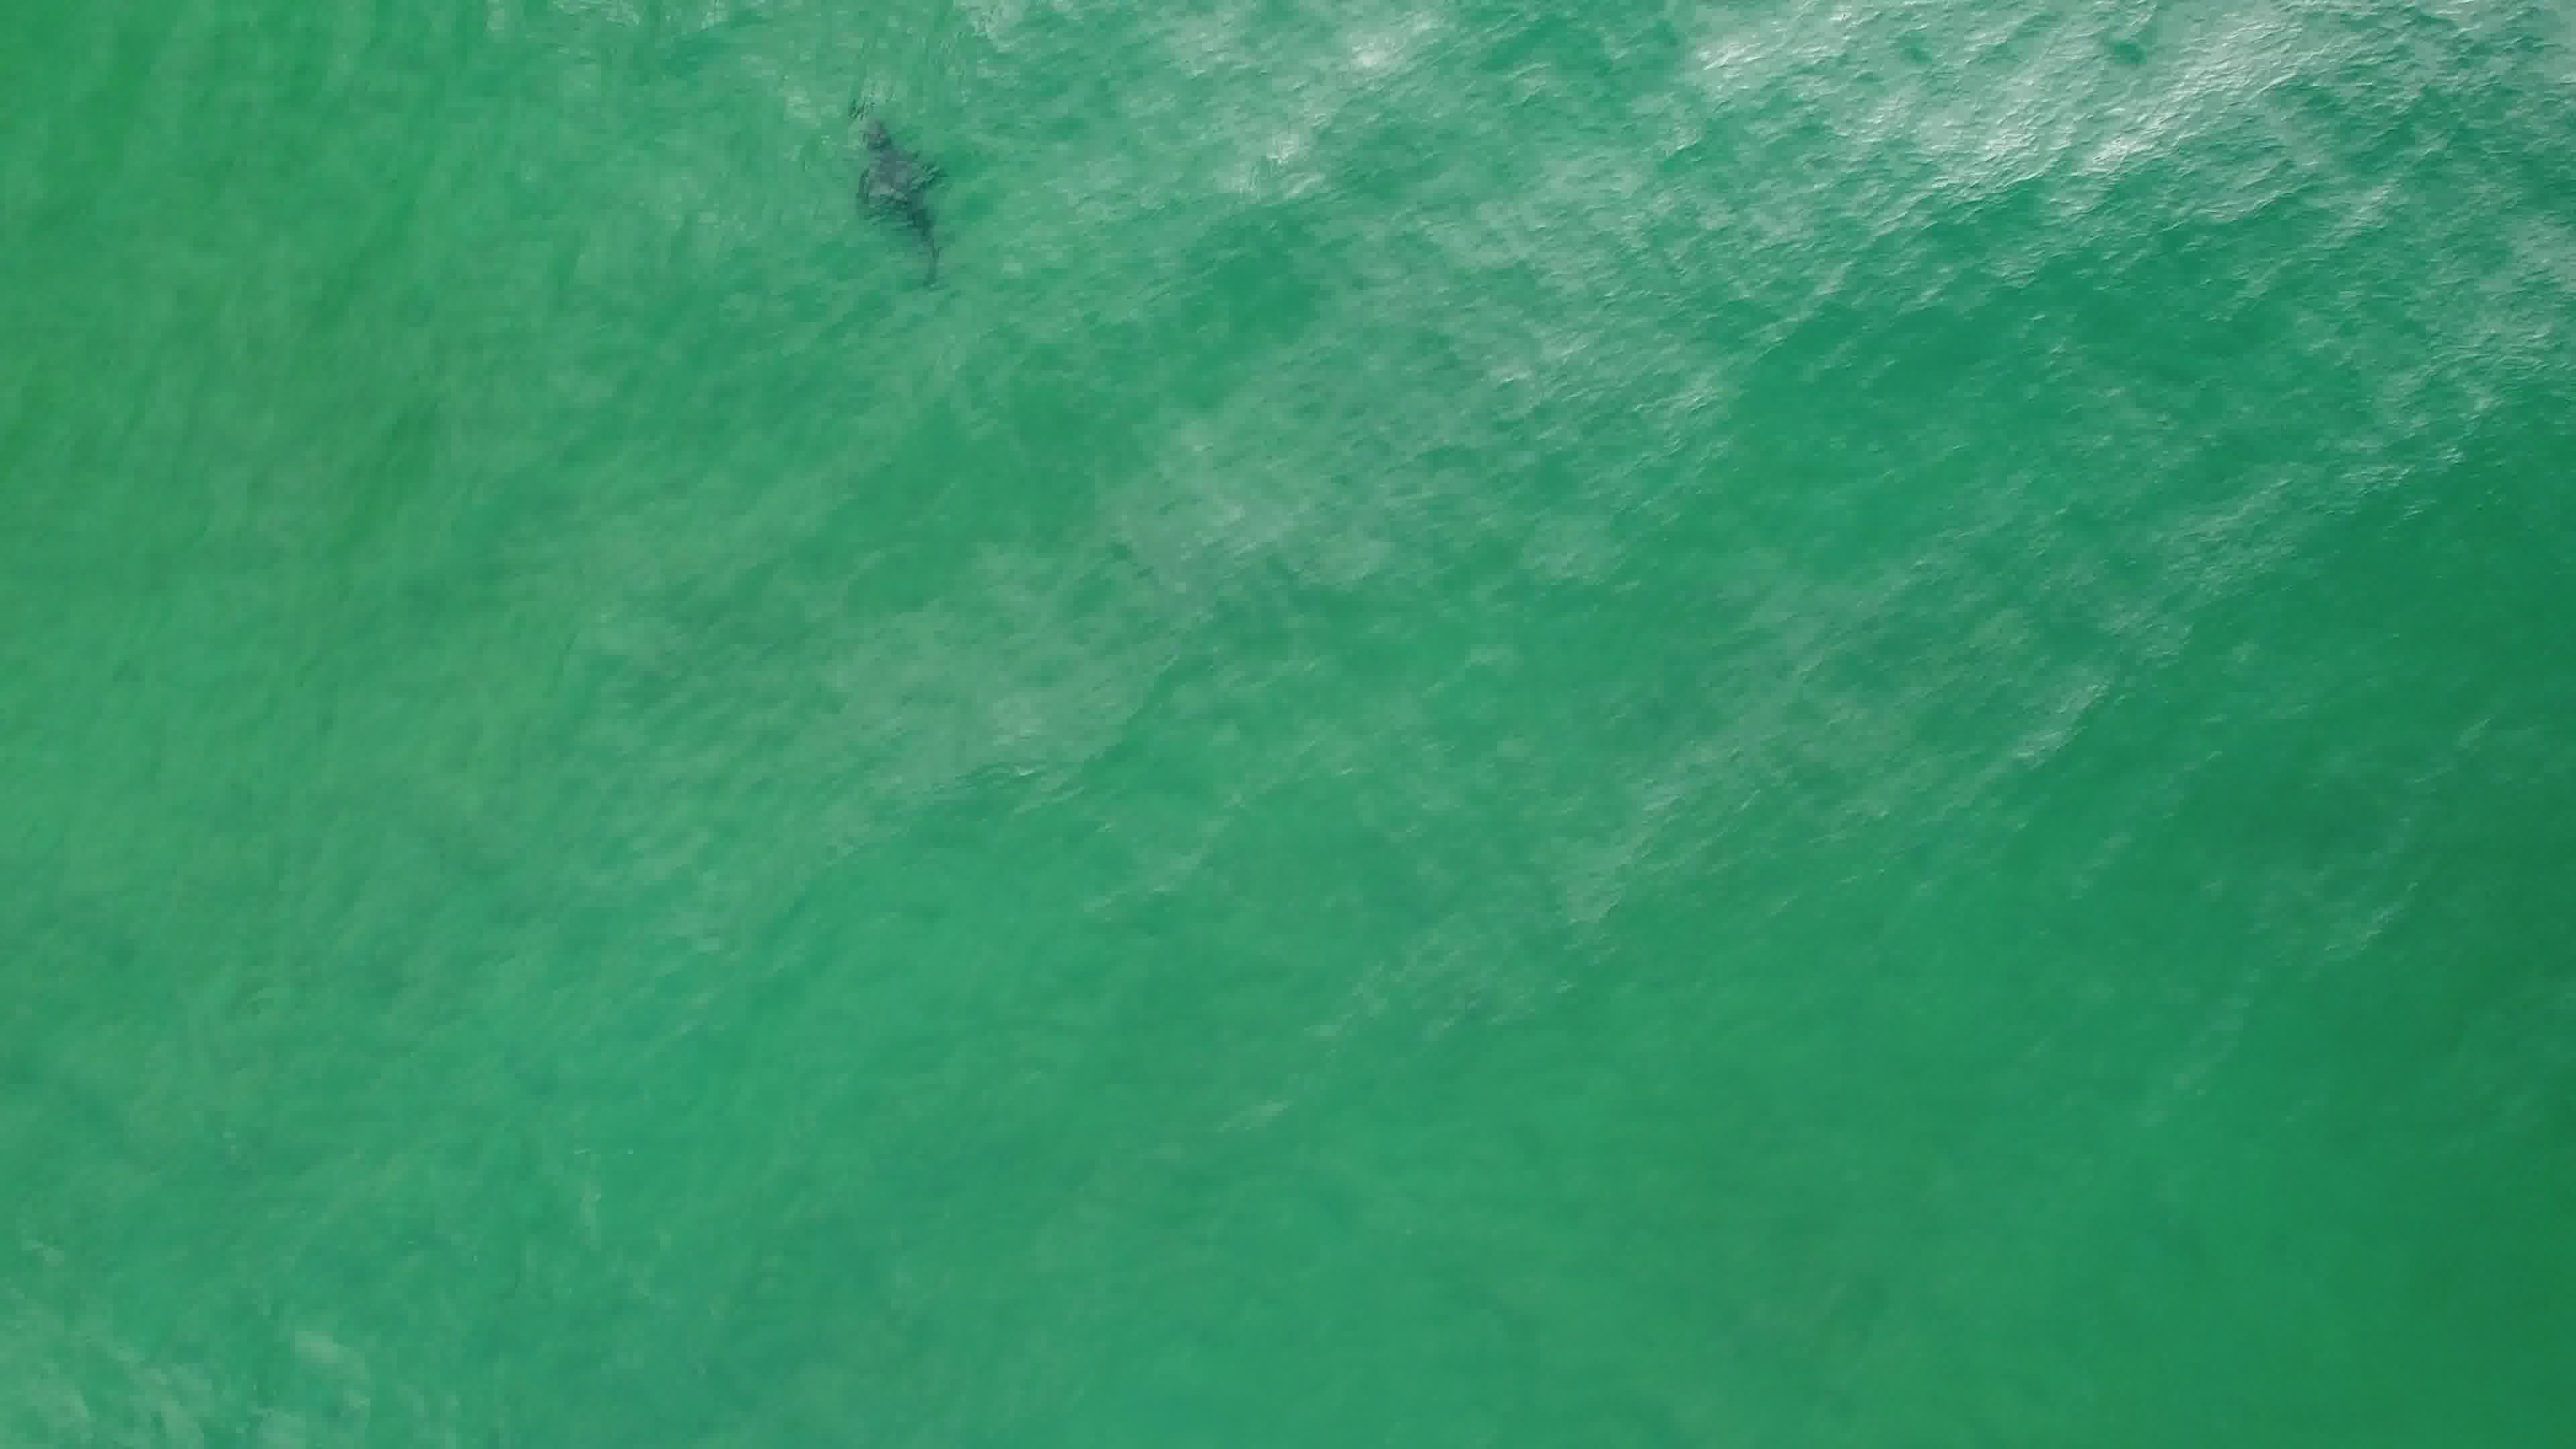shark: (844, 108, 955, 292)
